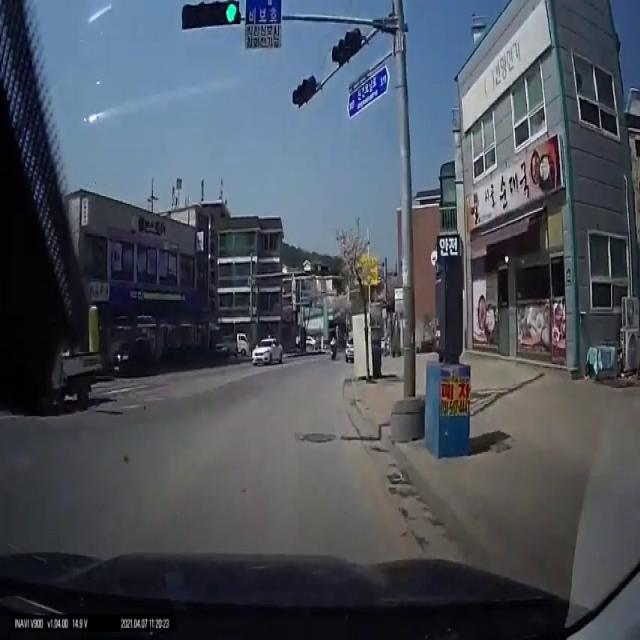Pothole: (300, 429, 340, 447)
